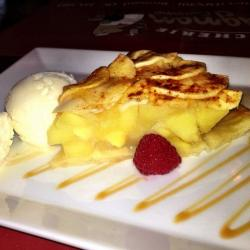apple_pie: (51, 43, 250, 171)
icecream: (3, 65, 81, 153)
